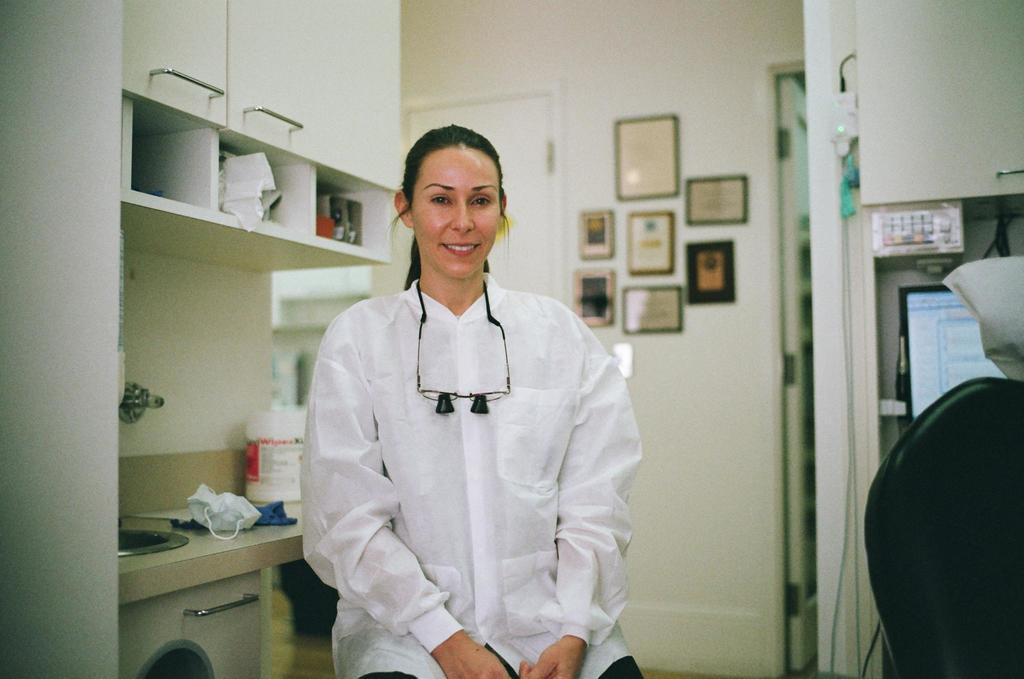Oculos: (418, 389, 509, 413)
Pessoa: (302, 125, 640, 678)
